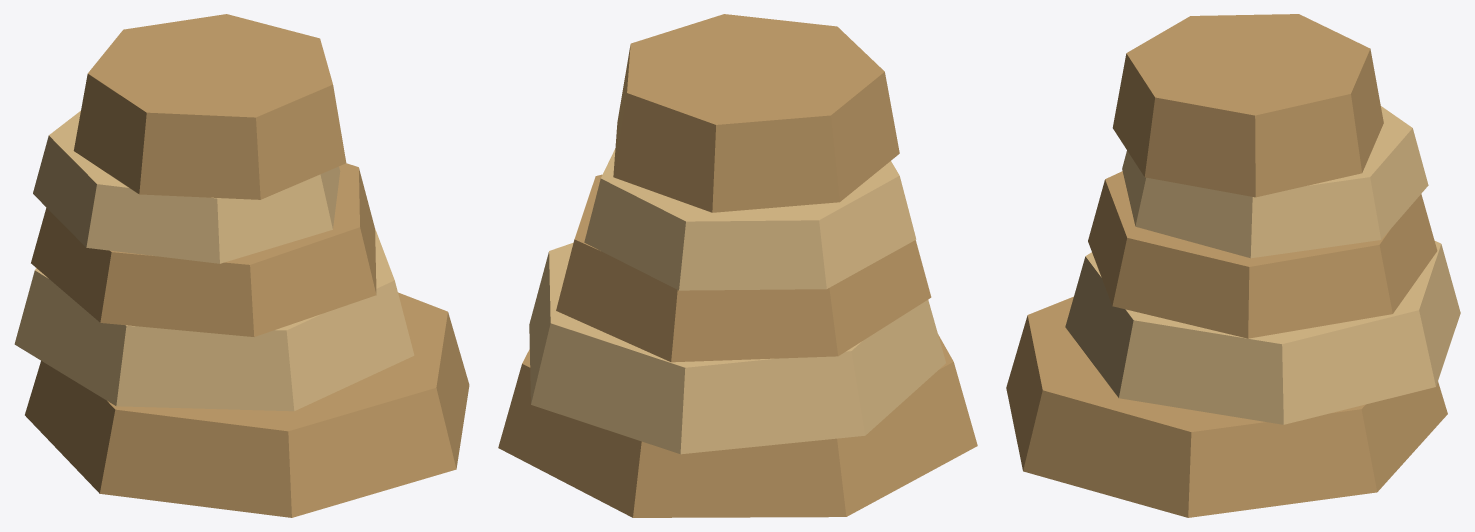
The model's file is map3_dune_rock_b_v01.glb.
3 views of the same model, side by side, from view 1: azimuth 30°, elevation 25°; view 2: azimuth 150°, elevation 25°; view 3: azimuth 270°, elevation 25° (orthographic). The views are drawn at different scales.
Parts seen in each view (by area): view 1: dune_rock; view 2: dune_rock; view 3: dune_rock.
Part boxes in pixels (x1,y1,x2,y2): dune_rock: (14,14,469,517); dune_rock: (498,14,977,517); dune_rock: (1006,14,1460,517).
Size of the model in its own units: 2.33 by 2.01 by 2.38.
